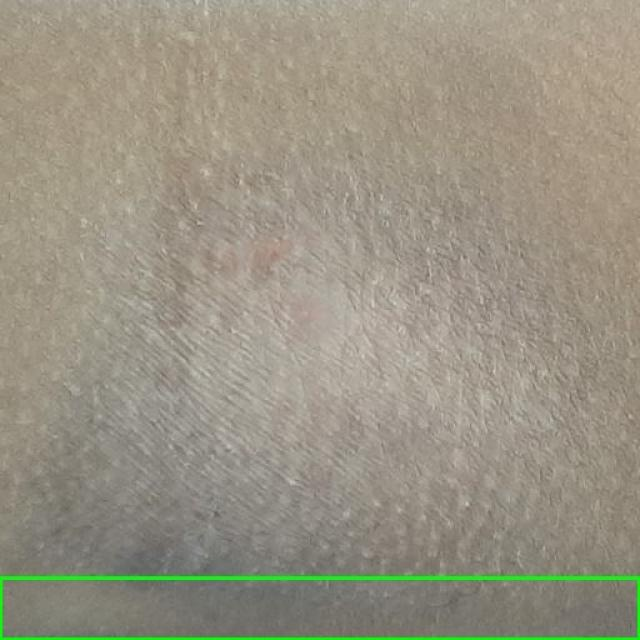Atopic Dermatitis: (0, 578, 639, 639)
